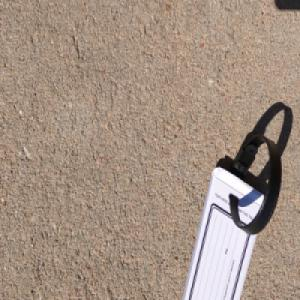LuggageTag: (179, 132, 282, 300)
